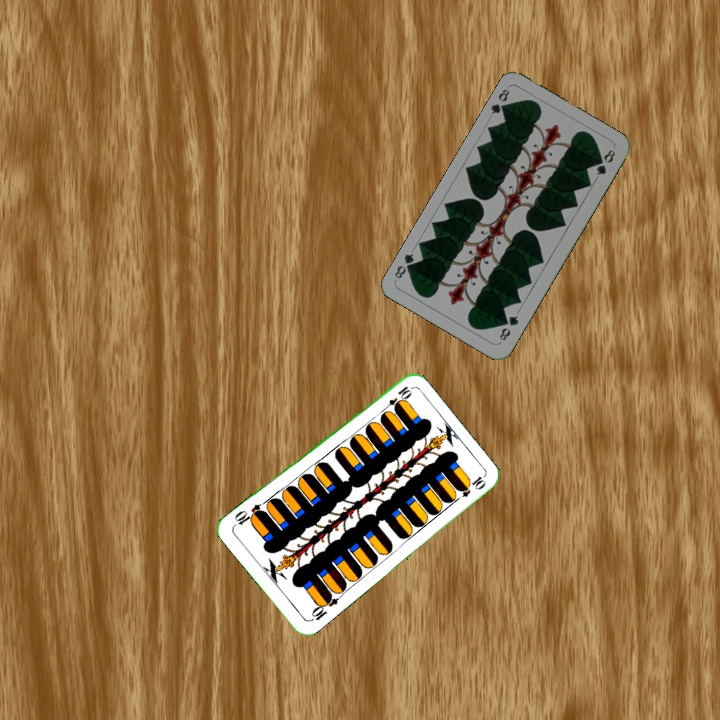E10: (306, 590, 341, 624), (379, 382, 413, 415)
G8: (495, 311, 521, 343), (487, 84, 512, 117)
